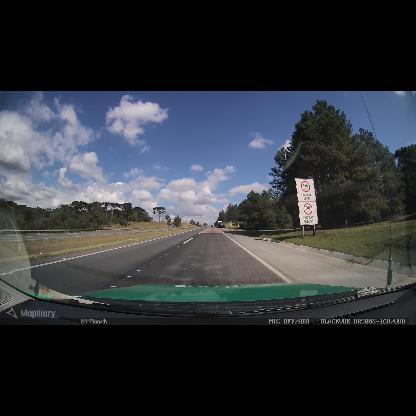R-19: (295, 178, 318, 225)
